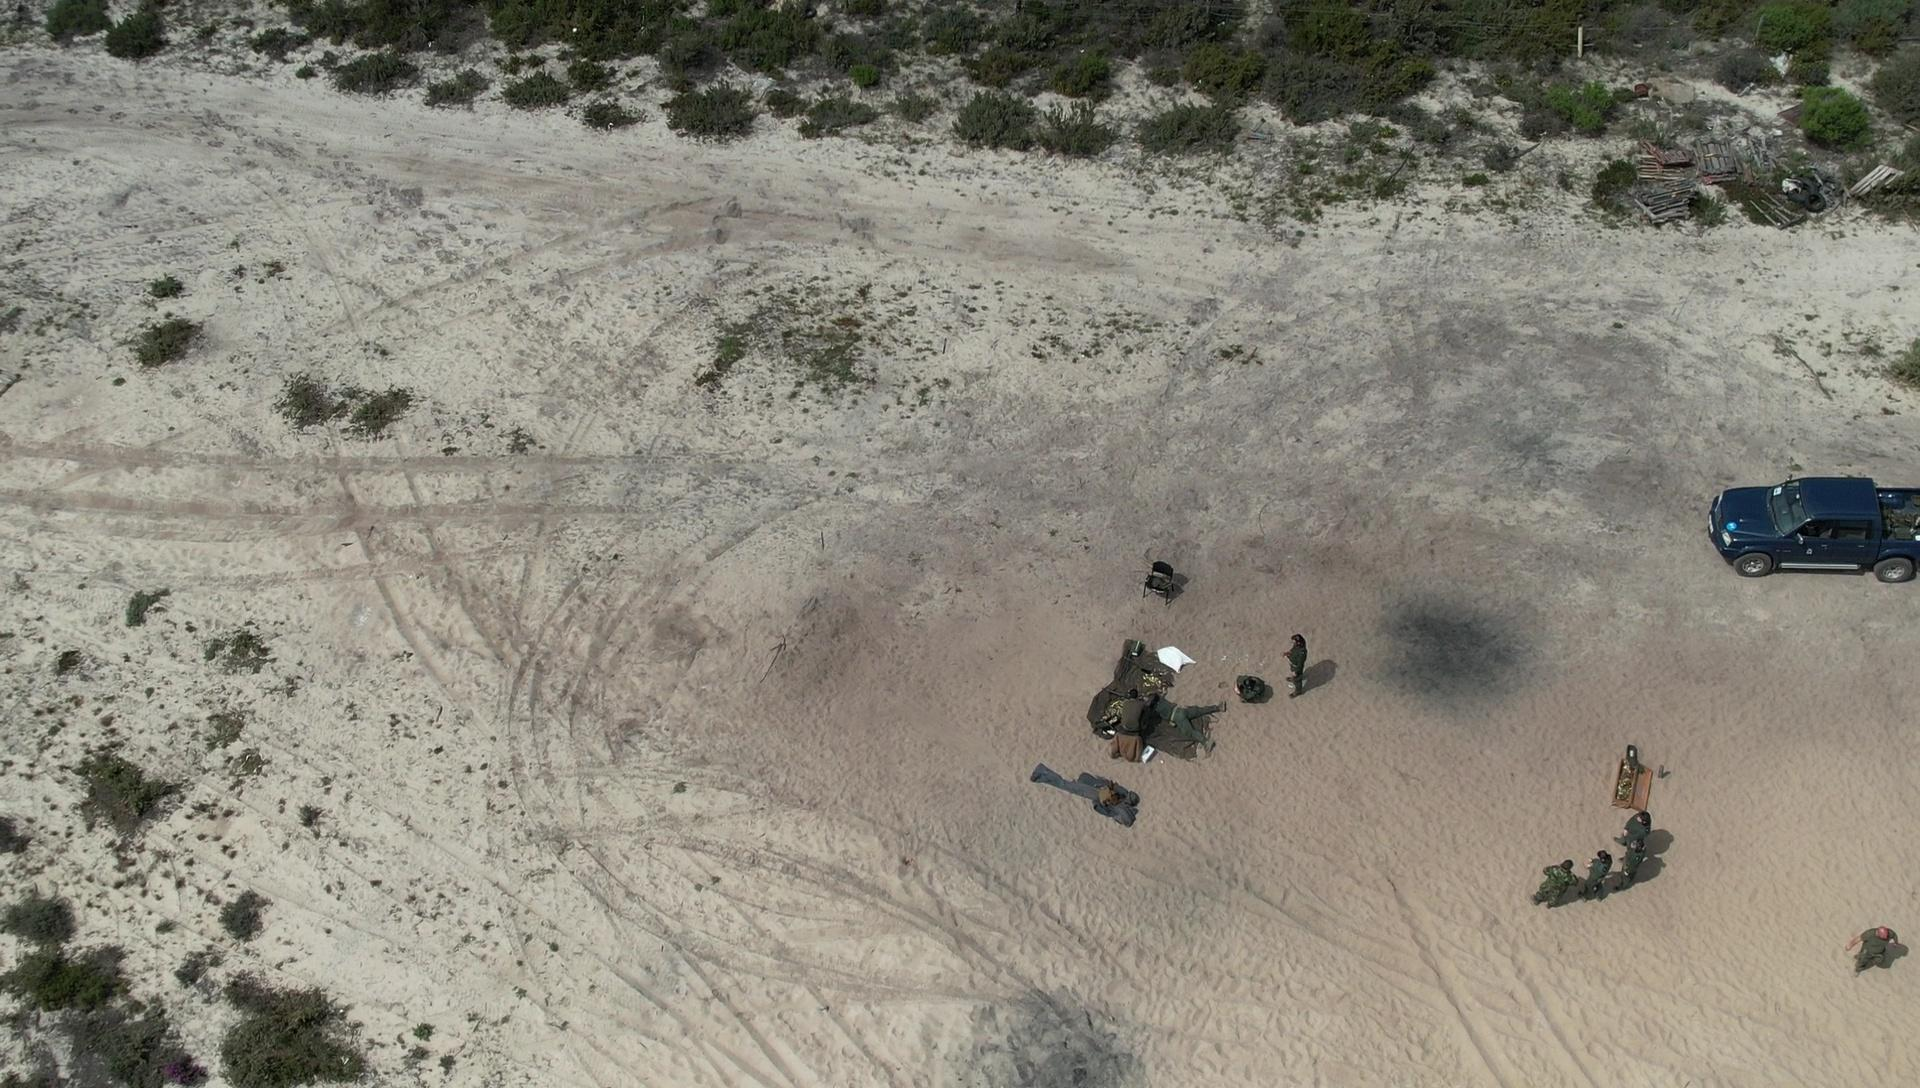Soldier: (1130, 682, 1224, 760), (1280, 617, 1329, 720), (1117, 688, 1178, 754), (1578, 841, 1625, 917), (1228, 658, 1284, 717), (1540, 851, 1584, 919), (1609, 861, 1664, 911), (1618, 823, 1655, 894)
